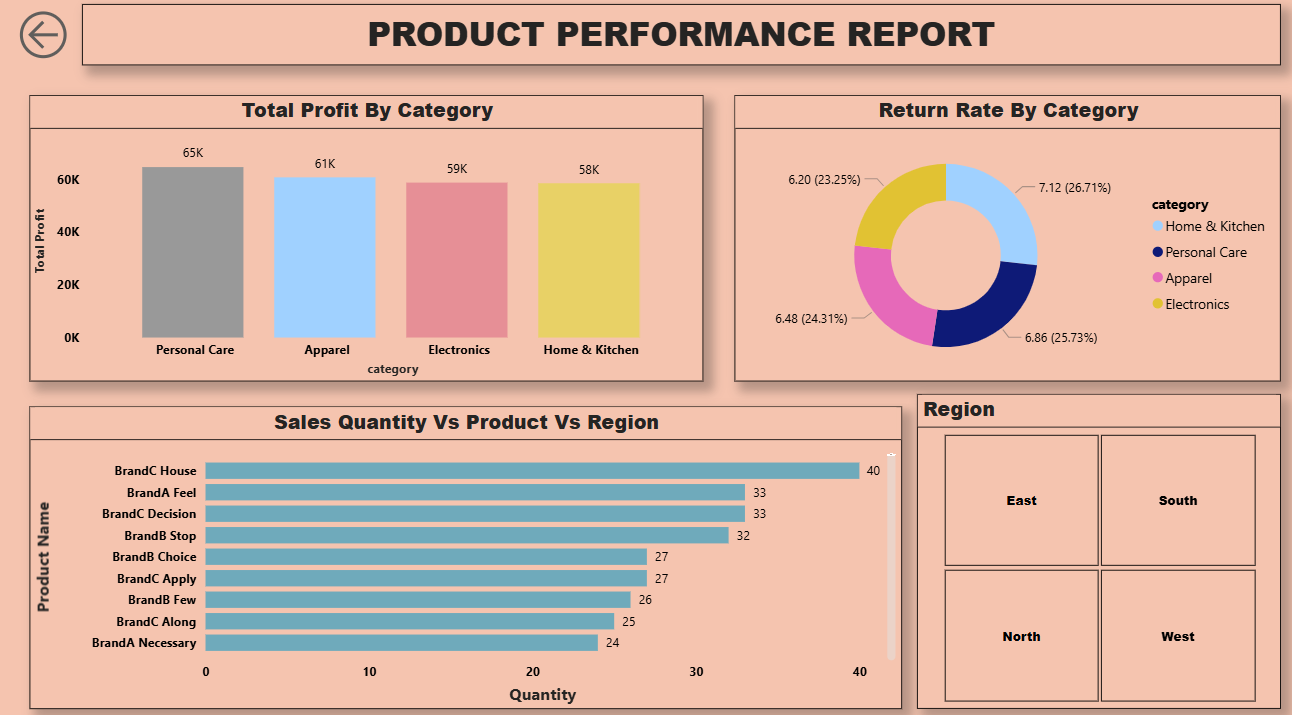

The dashboard page shown, as its layout file describes it:
{"tool":"powerbi","page":{"name":"Page 3","canvas":[1280,720],"ordinal":2},"visuals":[{"type":"clusteredColumnChart","title":"Total Profit By Category","fields":{"Category":["products_cleaned.category"],"Y":["products_cleaned.Total Profit"]},"box":[36.7,103.9,659.1,280],"z":0},{"type":"donutChart","title":"Return Rate By Category","fields":{"Category":["products_cleaned.category"],"Y":["returns_cleaned.Return Rate"]},"box":[726.4,103.9,534.4,280],"z":1000},{"type":"clusteredBarChart","title":"Sales Quantity Vs Product Vs Region","fields":{"Category":["products_cleaned.product_name"],"Y":["sales_cleaned.Total Quantity Sold"]},"box":[36.7,408.4,853.5,295.9],"z":2000},{"type":"slicer","title":"Region","fields":{"Values":["customers_cleaned.region"]},"box":[904.9,396.2,355.8,308.2],"z":3000},{"type":"textbox","box":[88,14.7,1172.7,59.9],"z":4000},{"type":"actionButton","box":[20.8,14.7,58.7,59.9],"z":5000}]}

Visuals, with their boxes in screenshot pixels (x1, y1, x2, y2), scaled from the page's 1280x720 canvas onto the 1292x715 screenshot:
"Total Profit By Category" clusteredColumnChart: (37, 103, 702, 381)
"Return Rate By Category" donutChart: (733, 103, 1273, 381)
"Sales Quantity Vs Product Vs Region" clusteredBarChart: (37, 406, 899, 699)
"Region" slicer: (913, 393, 1273, 700)
textbox: (89, 15, 1273, 74)
actionButton: (21, 15, 80, 74)
